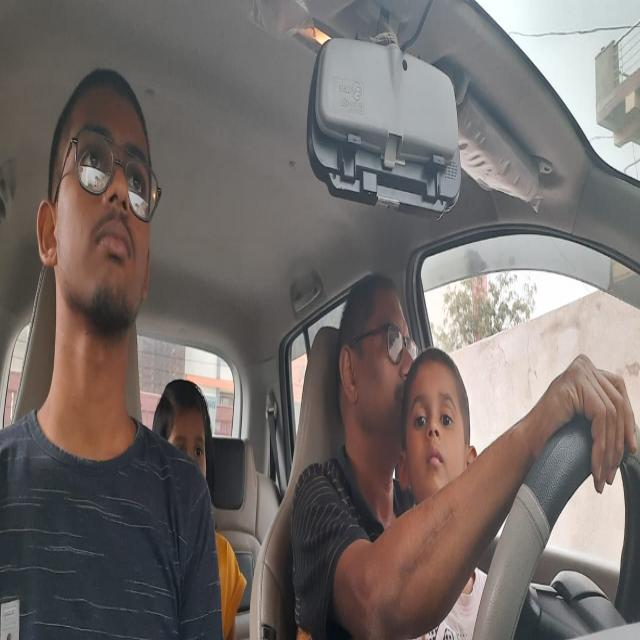child: (395, 344, 475, 524)
person: (338, 270, 413, 457)
